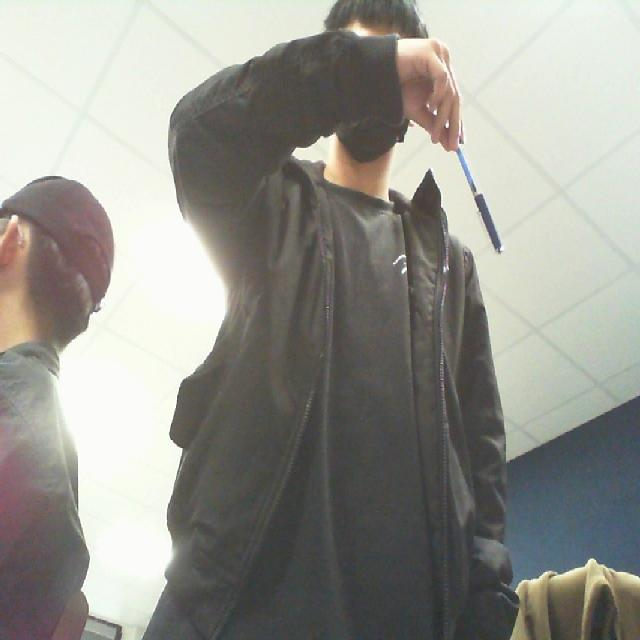Pen: (446, 138, 521, 272)
